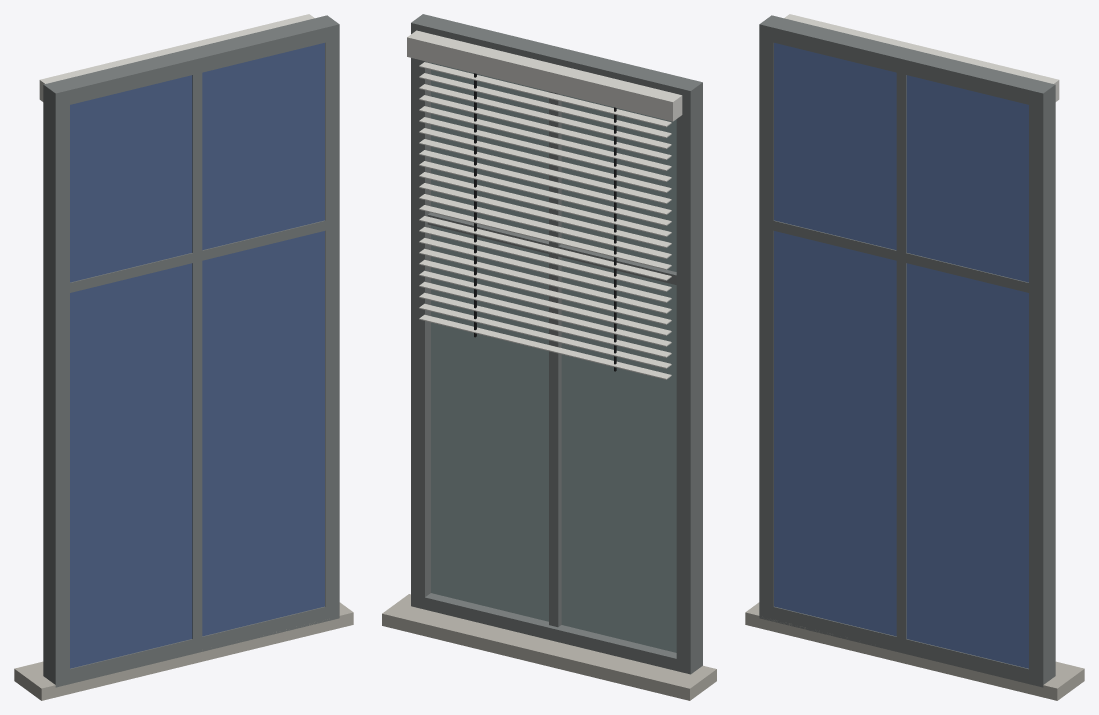
File: window_blind.fbx
3 renders of one model, left to right at view 1: azimuth 30°, elevation 25°; view 2: azimuth 150°, elevation 25°; view 3: azimuth 330°, elevation 25°, orthographic.
Visible parts, largest first — view 1: window_blind; view 2: window_blind; view 3: window_blind.
Part boxes in pixels (x1,y1,x2,y2): window_blind: [14, 14, 353, 700]; window_blind: [382, 14, 716, 700]; window_blind: [745, 14, 1084, 700].
Size of the model in its own units: 1.32 by 2.44 by 0.2.
